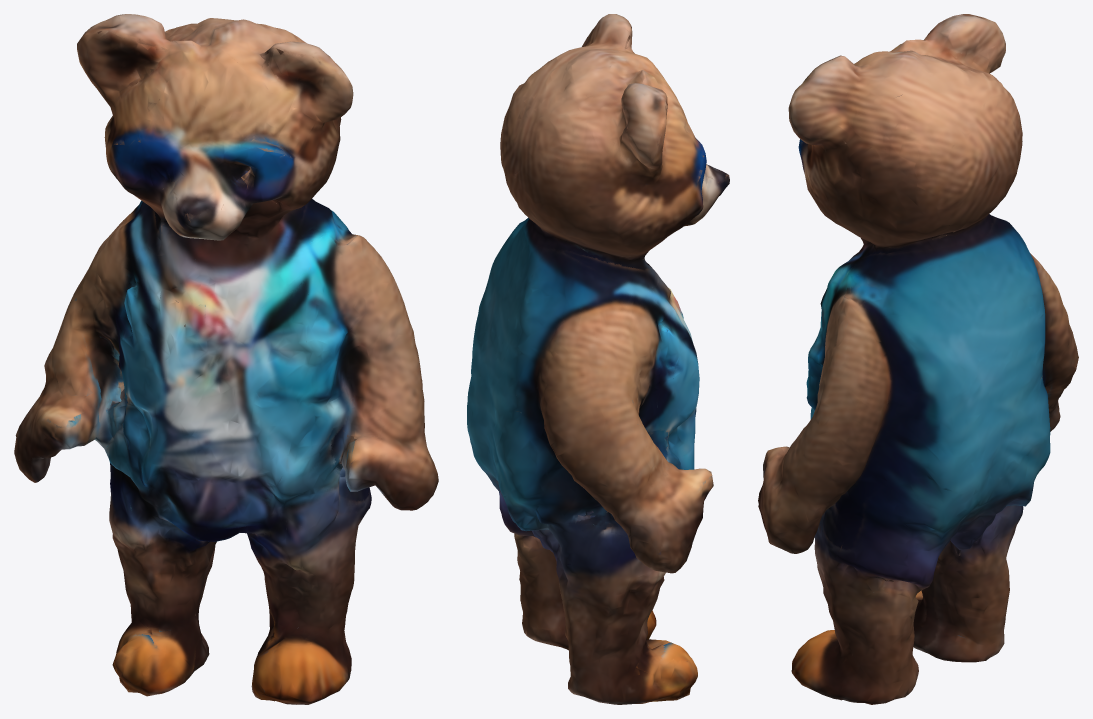
The model's file is bear.glb.
3 renders of one model, left to right at view 1: azimuth 30°, elevation 25°; view 2: azimuth 150°, elevation 25°; view 3: azimuth 270°, elevation 25°, orthographic. The views are drawn at different scales.
Bounding box in the file's own units: 0.9063 × 1.91 × 0.8931.
1 material, 1 textured.
